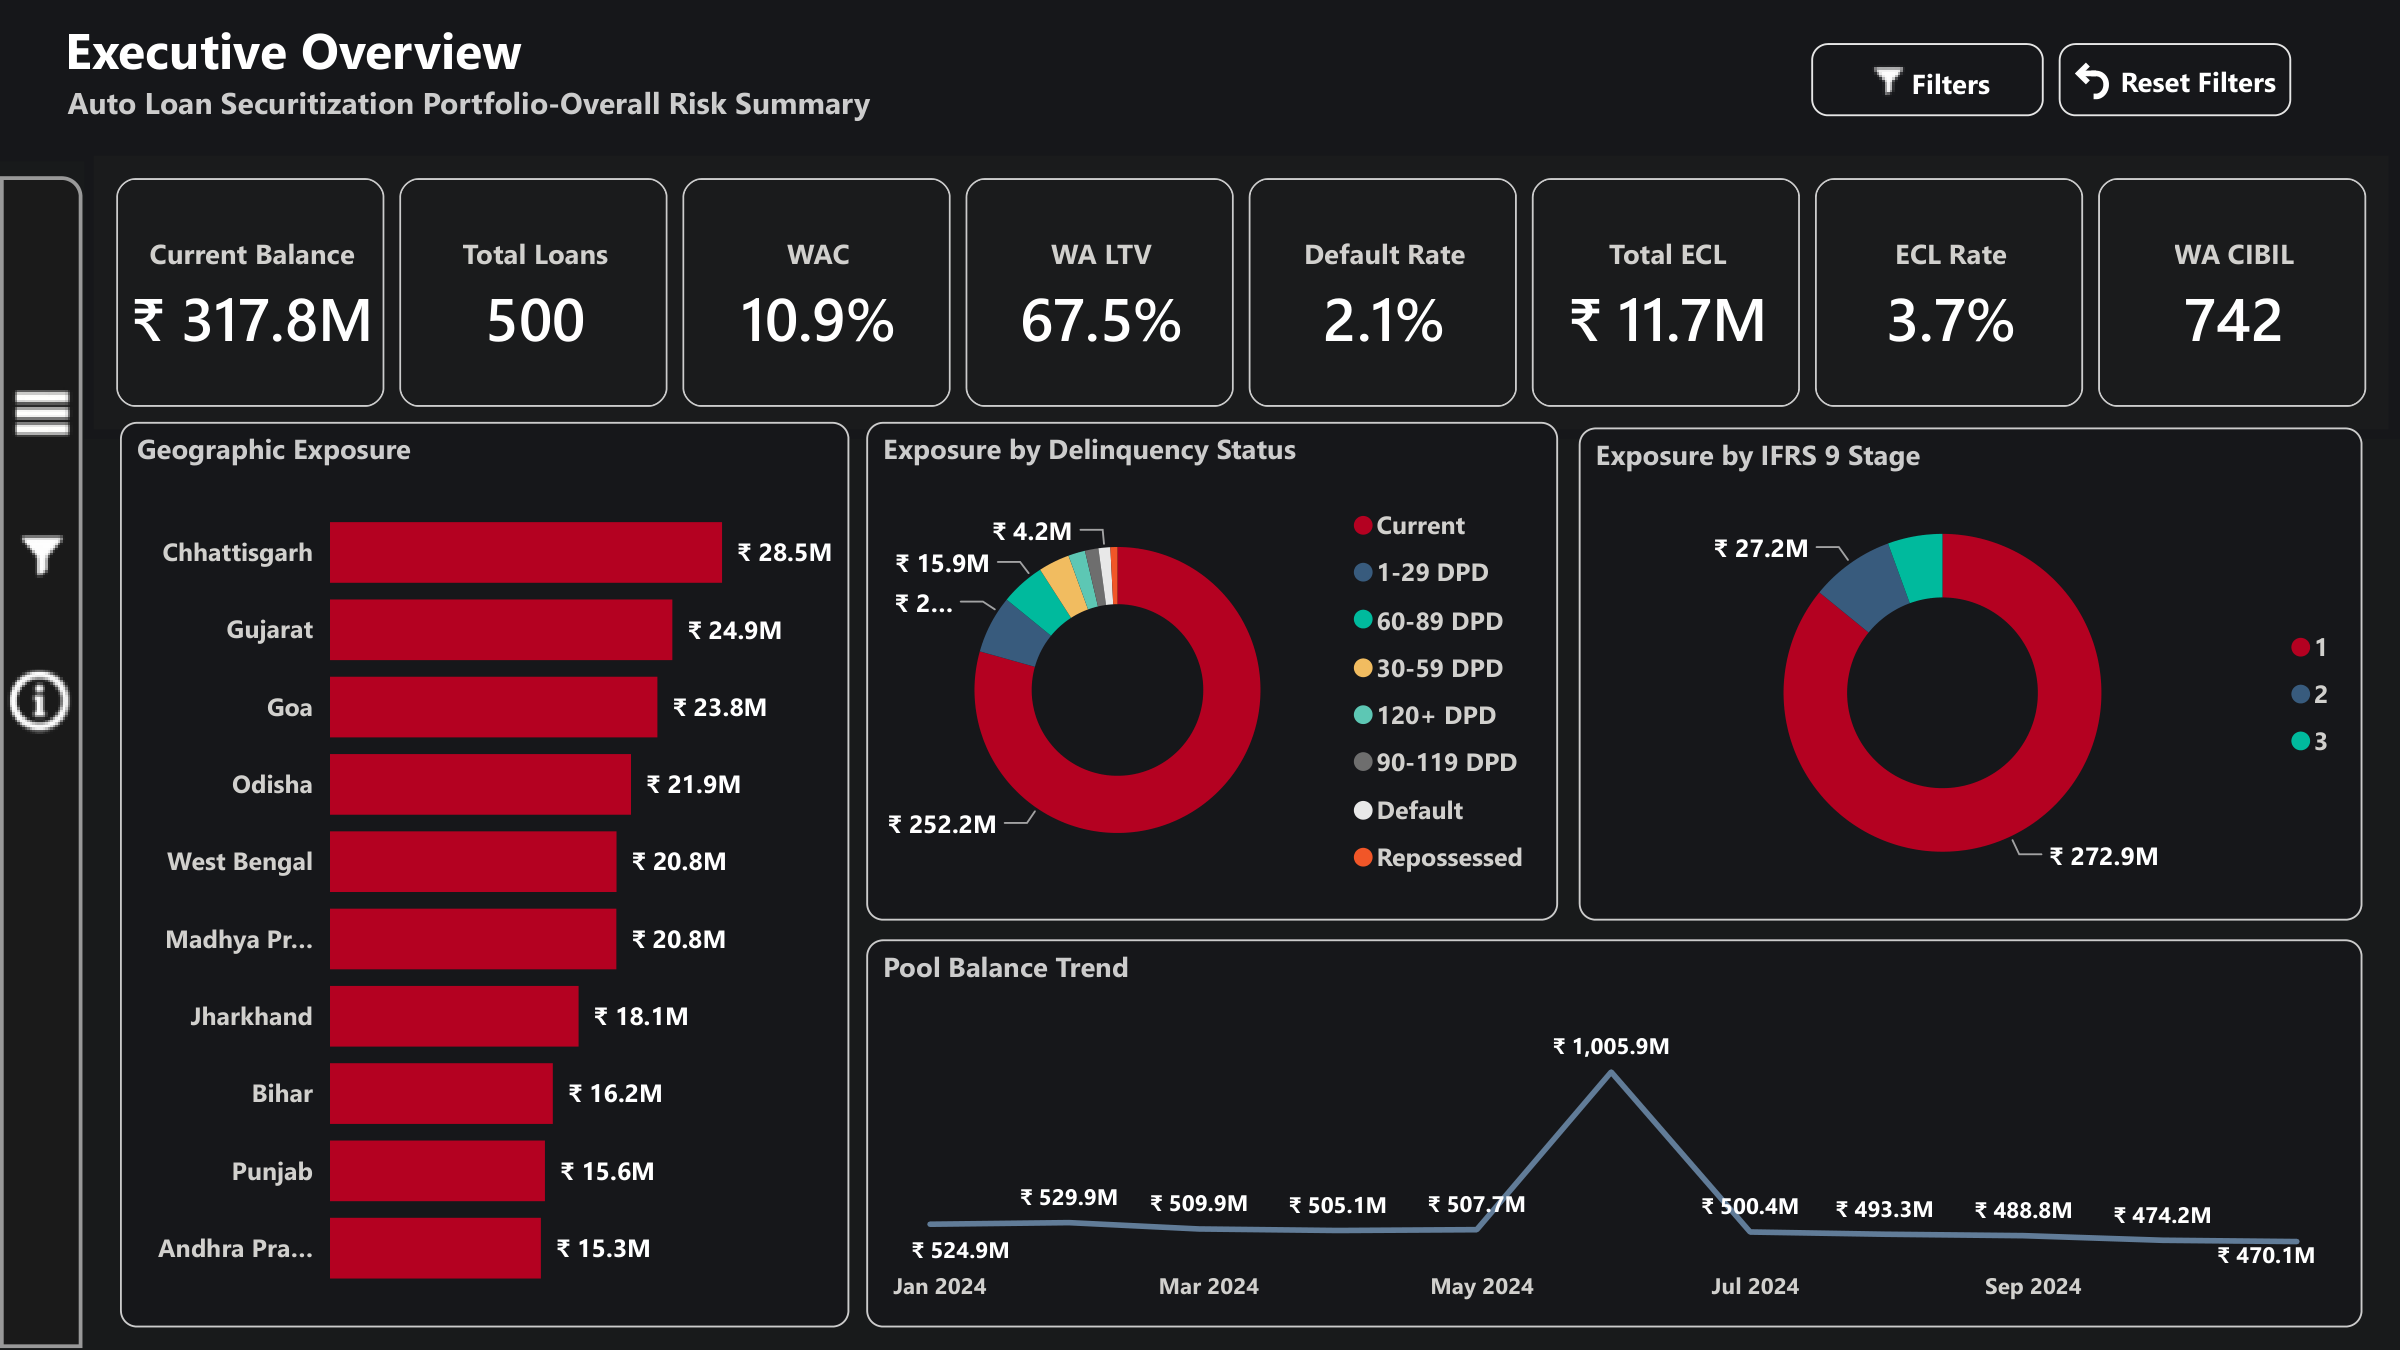

The dashboard page shown, as its layout file describes it:
{"tool":"powerbi","page":{"name":"Executive Overview","canvas":[1280,720],"ordinal":0},"visuals":[{"type":"group","id":"g1","title":"default page ","box":[0,0,1280,86.5],"z":0},{"type":"textbox","title":"Executive Overview","box":[0,0,1280,86.5],"z":0,"group":"g1"},{"type":"cardVisual","fields":{"Data":["Loan_Master.Total Current Balance","Loan_Master.Total Loans","Loan_Master.WAC","Loan_Master.Weighted Avg LTV","Loan_Master.Default Rate","Loan_Master.Total ECL","Loan_Master.ECL Rate","Loan_Master.Weighted Avg CIBIL"]},"box":[44.5,77.9,1235.5,155.8],"z":0,"group":"g2"},{"type":"shape","box":[0,94.1,44.3,625],"z":0,"group":"g3"},{"type":"shape","box":[350.8,142.1,576.7,428.9],"z":0,"group":"g4"},{"type":"actionButton","box":[1097.5,23.1,124.4,39],"z":1000,"group":"g1"},{"type":"textbox","box":[350,172.8,577.3,398],"z":1000,"group":"g4"},{"type":"actionButton","box":[0,181.3,44.5,77.6],"z":1000,"group":"g3"},{"type":"donutChart","title":"Exposure by IFRS 9 Stage","fields":{"Category":["Loan_Master.IFRS9_Stage"],"Y":["Loan_Master.Total Current Balance"]},"box":[841.7,228.2,417.4,263],"z":1000,"group":"g2"},{"type":"actionButton","box":[965.9,23.1,124.4,39],"z":2000,"group":"g1"},{"type":"shape","box":[350,120,579.1,52.1],"z":2000,"group":"g4"},{"type":"donutChart","title":"Exposure by Delinquency Status","fields":{"Y":["Loan_Master.Total Current Balance"],"Category":["Loan_Master.DelinquencyStatus"]},"box":[461.9,225.4,368.7,265.7],"z":2000,"group":"g2"},{"type":"actionButton","box":[0,257.9,44.8,76.9],"z":2000,"group":"g3"},{"type":"actionButton","box":[887.2,120,42.8,53.7],"z":3000,"group":"g4"},{"type":"clusteredBarChart","title":"Geographic Exposure","fields":{"Category":["Loan_Master.State"],"Y":["Loan_Master.Total Current Balance"]},"box":[63.8,225.2,388.6,482.9],"z":3000,"group":"g2"},{"type":"actionButton","box":[0,334.9,44.8,78.3],"z":3000,"group":"g3"},{"type":"group","id":"g2","title":"charts unfolded","box":[44.5,77.9,1235.5,630.3],"z":4000},{"type":"textbox","box":[397.4,120,407.4,49.7],"z":4000,"group":"g4"},{"type":"lineChart","title":"Pool Balance Trend","fields":{"Y":["Sum(Monthly_Loss.EOP_Balance)"],"Category":["Monthly_Loss.ReportingDate"]},"box":[461.9,500.9,797.2,207.3],"z":4000,"group":"g2"},{"type":"group","id":"g3","title":"navigation bar","box":[0,94.1,44.8,625],"z":5000},{"type":"actionButton","box":[377.2,125.9,27.2,32],"z":5000,"group":"g4"},{"type":"group","id":"g4","title":"info","box":[350,120,580,451],"z":7000}]}

Visuals, with their boxes in screenshot pixels (x1, y1, x2, y2), scaled from the page's 1280x720 canvas onto the 2400x1350 screenshot:
"default page " group: 0,0,2399,162
"Executive Overview" textbox: 0,0,2399,162
cardVisual - Loan_Master.Total Current Balance x Loan_Master.Total Loans: 83,146,2399,438
shape: 0,176,83,1348
shape: 658,266,1739,1071
actionButton: 2058,43,2291,116
textbox: 656,324,1739,1070
actionButton: 0,340,83,485
"Exposure by IFRS 9 Stage" donutChart: 1578,428,2361,921
actionButton: 1811,43,2044,116
shape: 656,225,1742,323
"Exposure by Delinquency Status" donutChart: 866,423,1557,921
actionButton: 0,484,84,628
actionButton: 1664,225,1744,326
"Geographic Exposure" clusteredBarChart: 120,422,848,1328
actionButton: 0,628,84,775
"charts unfolded" group: 83,146,2399,1328
textbox: 745,225,1509,318
"Pool Balance Trend" lineChart: 866,939,2361,1328
"navigation bar" group: 0,176,84,1348
actionButton: 707,236,758,296
"info" group: 656,225,1744,1071
